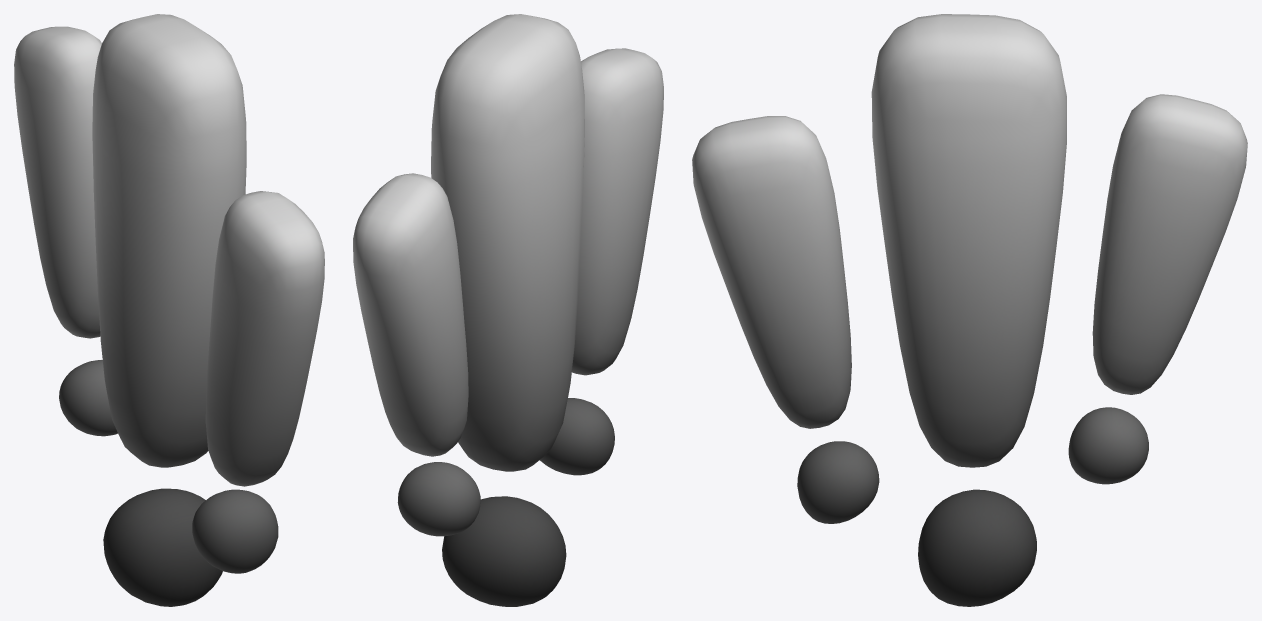
Rendered from ExclamationMarkTripleBW.dae.
3 renders of one model, left to right at view 1: azimuth 30°, elevation 25°; view 2: azimuth 150°, elevation 25°; view 3: azimuth 270°, elevation 25°, orthographic.
Parts seen in each view (by area): view 1: Cube_002; view 2: Cube_002; view 3: Cube_002.
Part boxes in pixels (<box>): Cube_002: <box>14,14,324,606</box>; Cube_002: <box>353,14,663,606</box>; Cube_002: <box>692,14,1247,606</box>.
Bounding box in the file's own units: 0.5834 × 2.39 × 2.73.
Materials: 1 (1 with a texture image).
